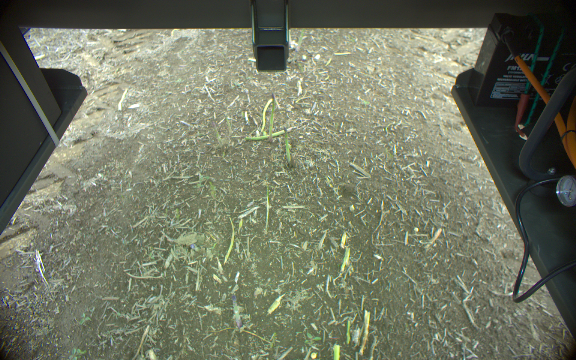aspa: (243, 124, 304, 138), (256, 97, 272, 137), (267, 90, 278, 145), (282, 127, 295, 165)
